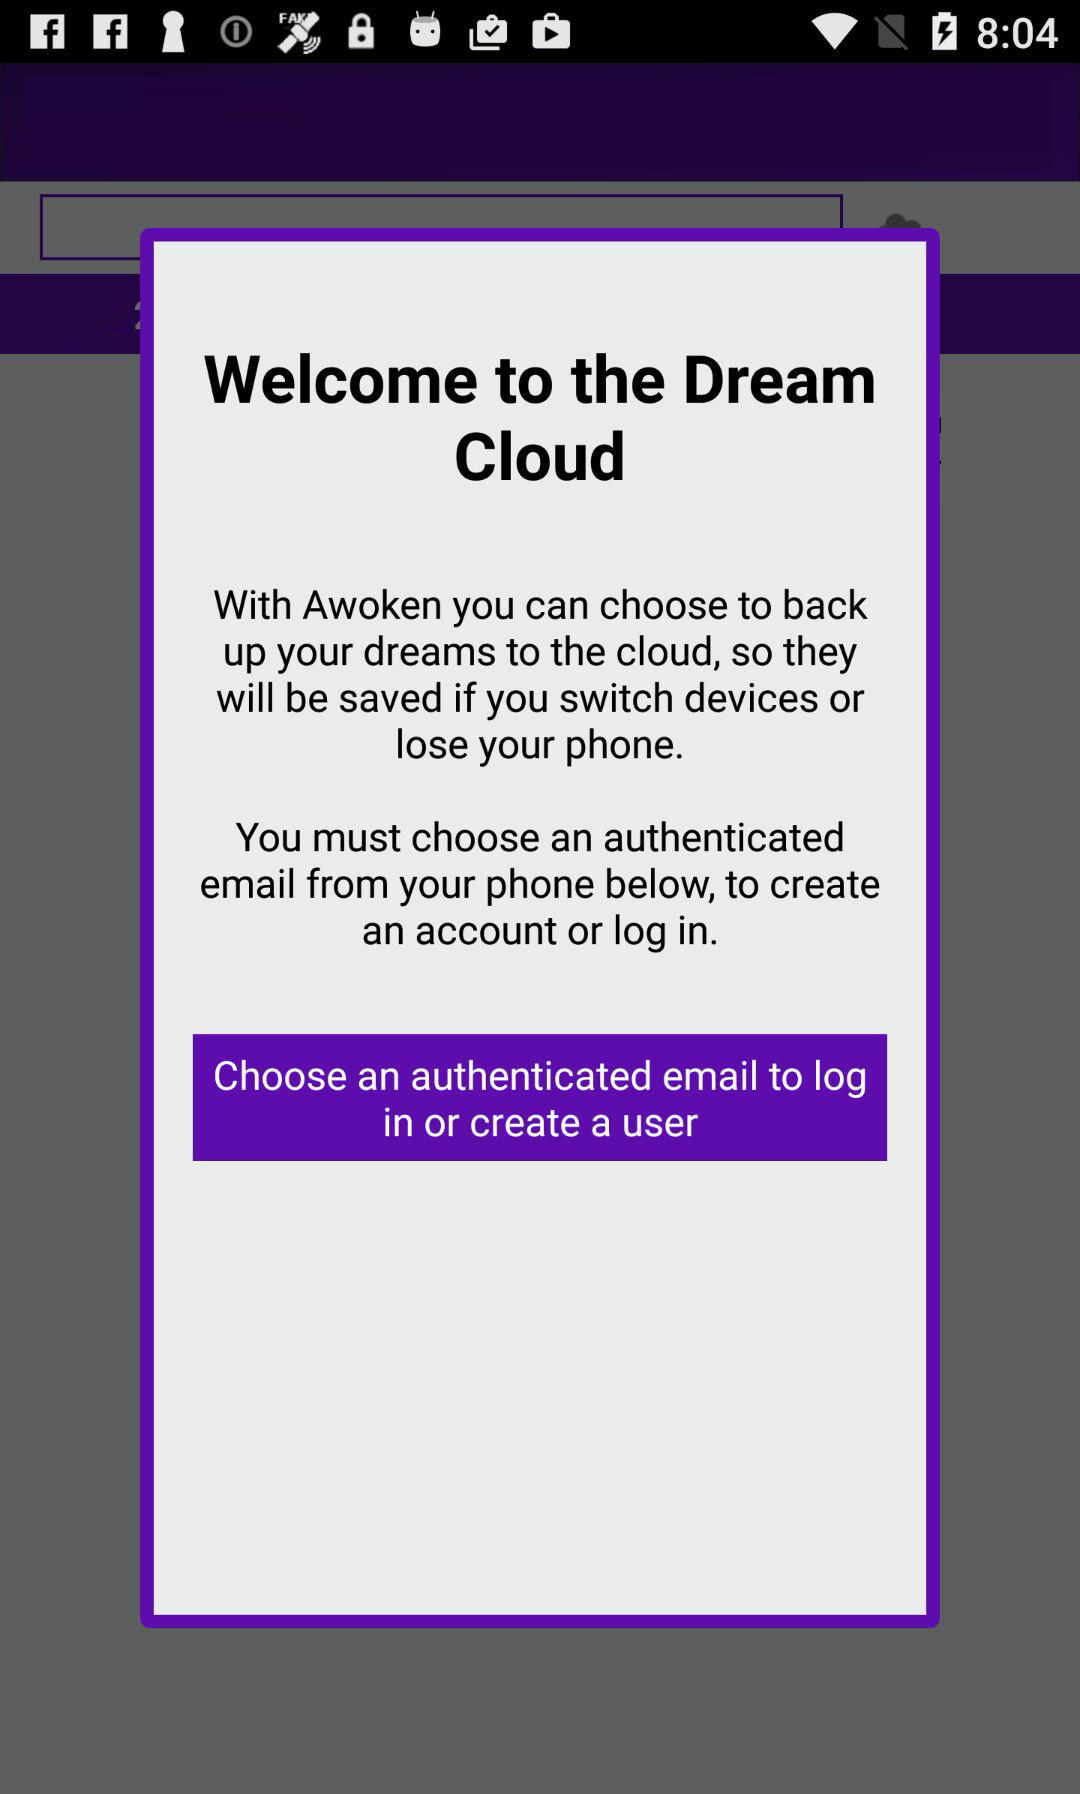Modal: (140, 227, 942, 1630)
Text: (213, 586, 869, 769), (201, 820, 881, 956), (202, 352, 876, 484)
TextButton: (193, 1034, 888, 1162)
UpperTaskBar: (1, 1, 1080, 64)
